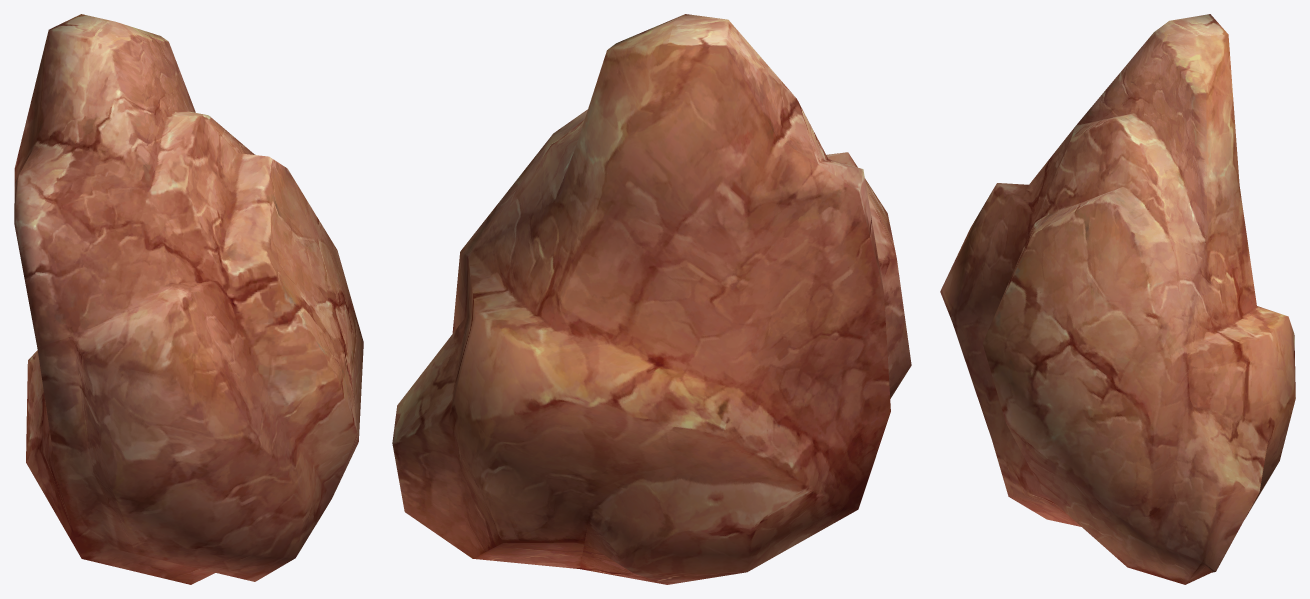
The model's file is kor_vod_rock_01.glb.
The picture shows the model from 3 angles, left to right: view 1: azimuth 30°, elevation 25°; view 2: azimuth 150°, elevation 25°; view 3: azimuth 270°, elevation 25°; orthographic projection. The views are drawn at different scales.
Parts seen in each view (by area): view 1: all_item_camp_fire_pit_sacrificial; view 2: all_item_camp_fire_pit_sacrificial; view 3: all_item_camp_fire_pit_sacrificial.
Boxes of the visible parts, left/top/right/bottom form: all_item_camp_fire_pit_sacrificial: left=14, top=14, right=363, bottom=584; all_item_camp_fire_pit_sacrificial: left=392, top=14, right=911, bottom=584; all_item_camp_fire_pit_sacrificial: left=940, top=14, right=1295, bottom=584.
Bounding box in the file's own units: 0.5497 × 0.759 × 0.5129.
1 material, 1 textured.
